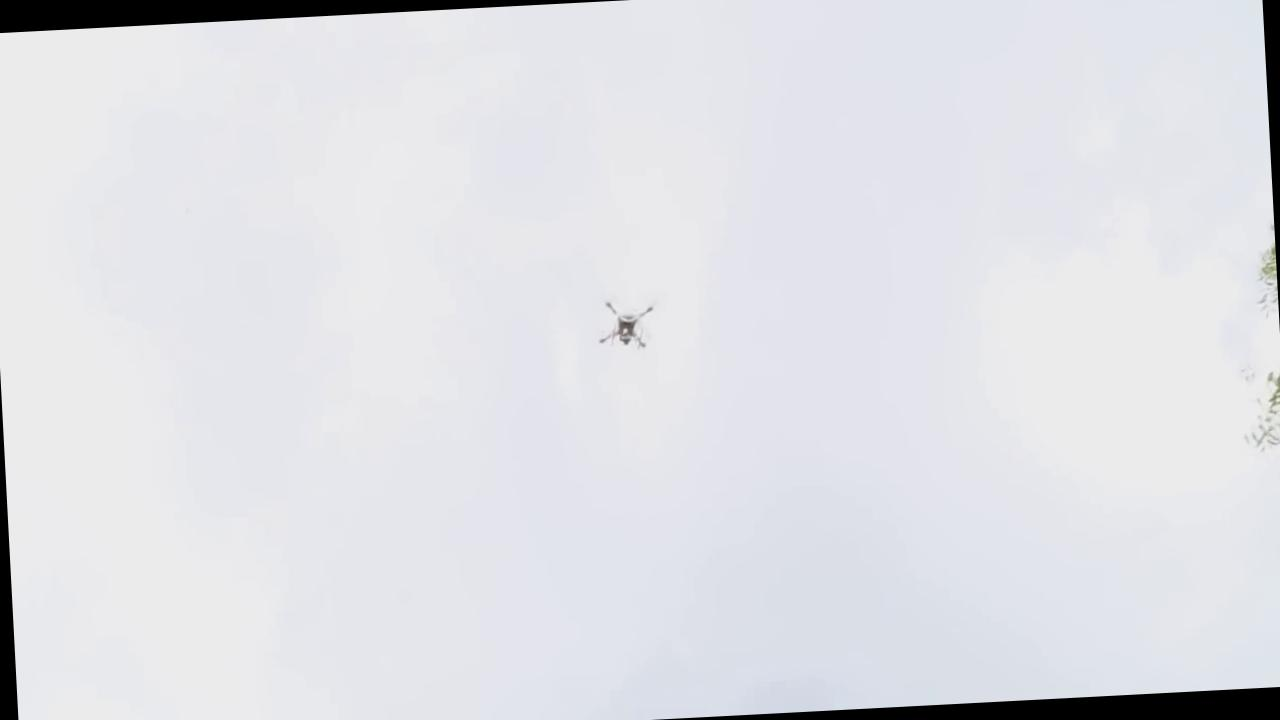drone: (587, 292, 666, 354)
